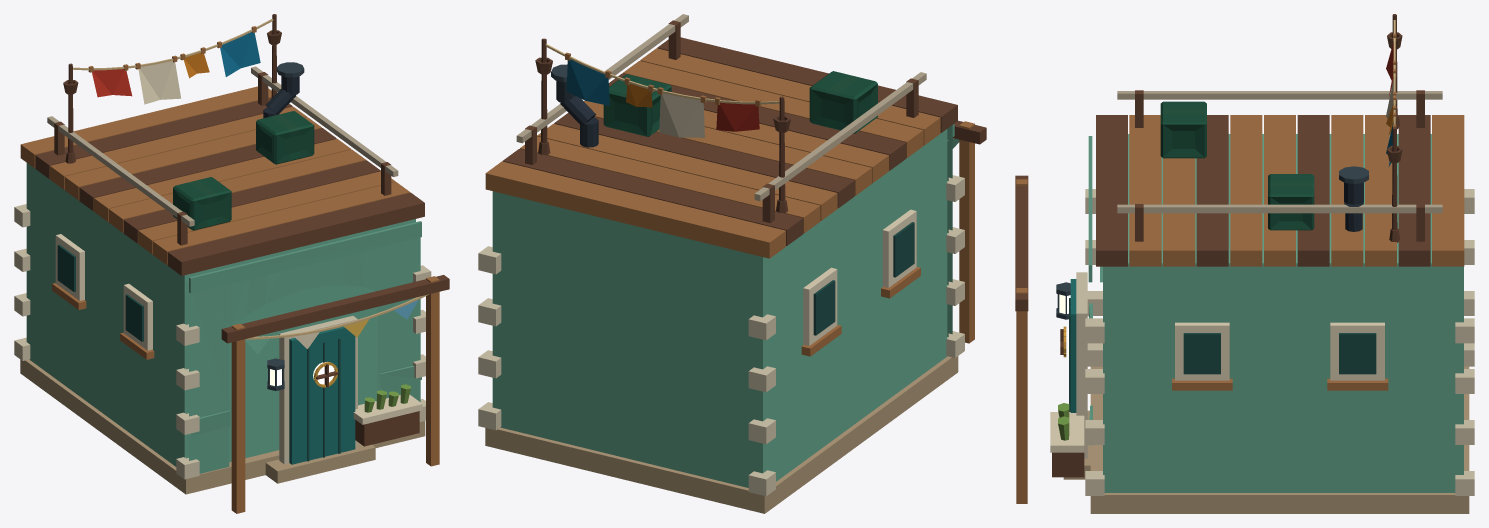
Rendered from boat-shop-medium-mint.glb.
3 renders of one model, left to right at view 1: azimuth 30°, elevation 25°; view 2: azimuth 150°, elevation 25°; view 3: azimuth 270°, elevation 25°, orthographic. The views are drawn at different scales.
Visible parts, largest first — view 1: boat-shop-medium-mint; view 2: boat-shop-medium-mint; view 3: boat-shop-medium-mint.
Boxes of the visible parts, box(x1,y1,x2,y2) form: boat-shop-medium-mint: box(14, 14, 449, 513); boat-shop-medium-mint: box(478, 14, 986, 513); boat-shop-medium-mint: box(1015, 14, 1474, 513).
Bounding box in the file's own units: 3.74 × 4.76 × 5.27.
